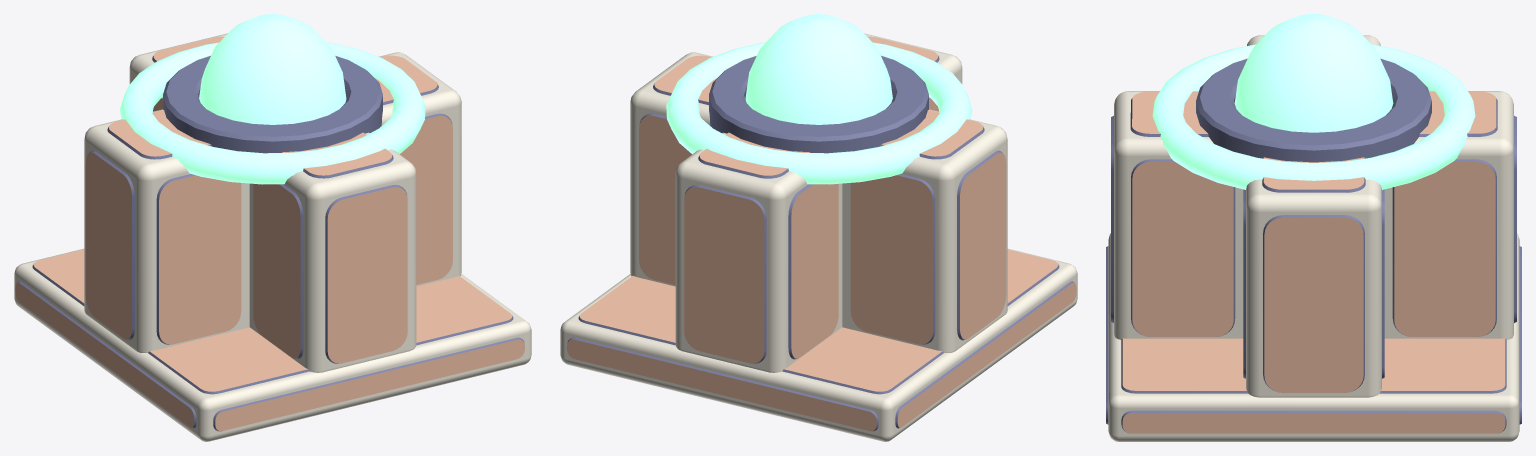
The model's file is R4X_RepairPulse.fbx.
3 renders of one model, left to right at view 1: azimuth 30°, elevation 25°; view 2: azimuth 150°, elevation 25°; view 3: azimuth 270°, elevation 25°, orthographic. The views are drawn at different scales.
Parts seen in each view (by area): view 1: R4X_RepairPulse_Body; view 2: R4X_RepairPulse_Body; view 3: R4X_RepairPulse_Body.
Boxes of the visible parts, box(x1,y1,x2,y2) form: R4X_RepairPulse_Body: box(14, 14, 531, 441); R4X_RepairPulse_Body: box(560, 14, 1077, 441); R4X_RepairPulse_Body: box(1106, 14, 1521, 441).
Size of the model in its own units: 0.52 by 0.4704 by 0.52.
